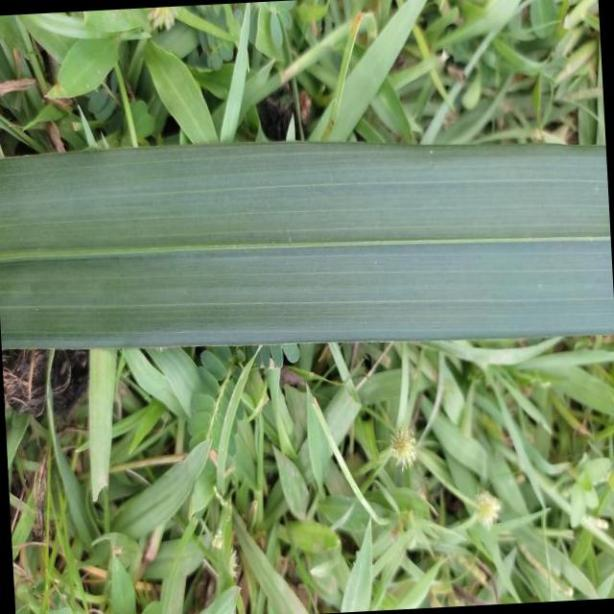Healthy: (0, 136, 614, 353)
